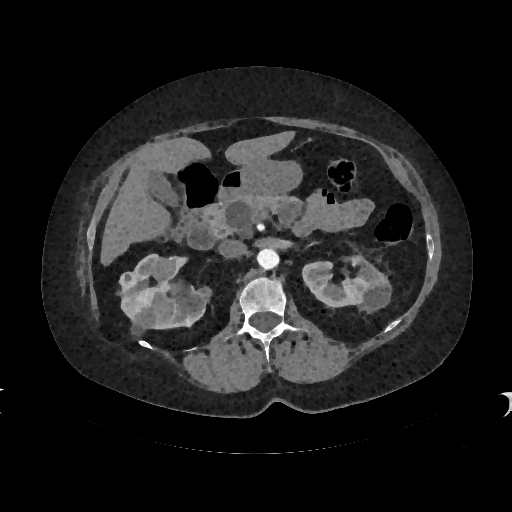Lesion: (115, 267, 139, 289)
